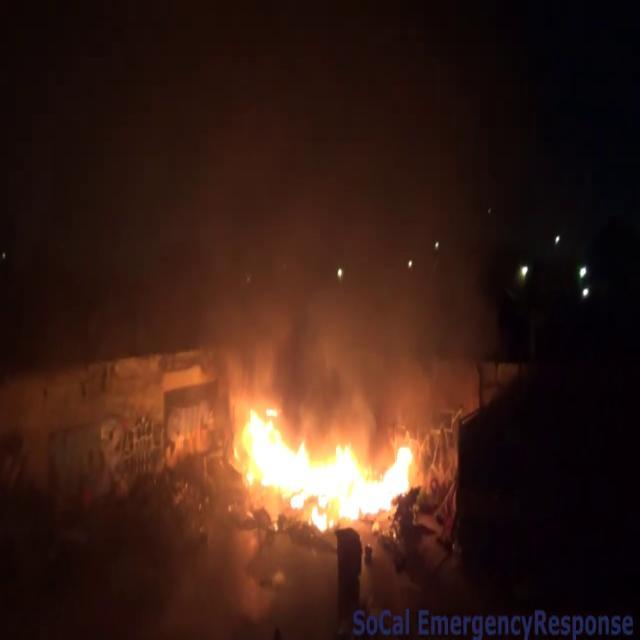Fire: (227, 397, 423, 527)
Smoke: (201, 2, 525, 424)
